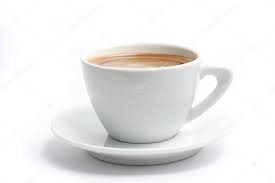cup: (76, 41, 237, 145)
